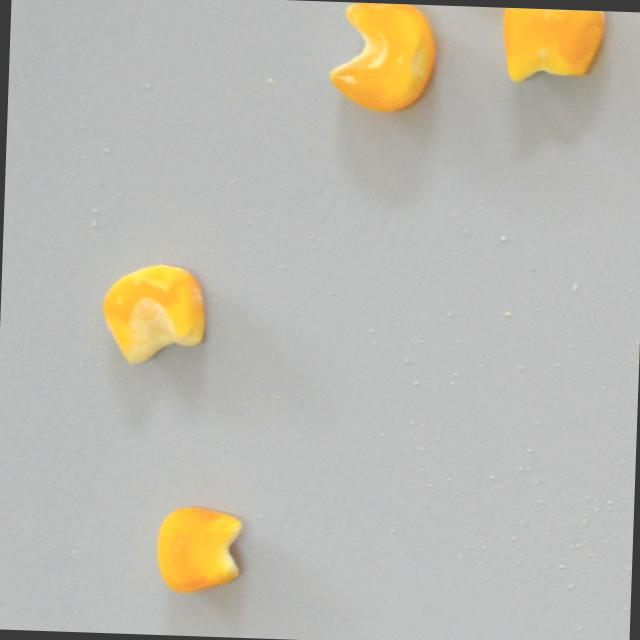no_canjicado: (154, 505, 242, 593)
pelicula: (324, 0, 439, 116), (99, 260, 210, 366), (499, 6, 605, 86)
